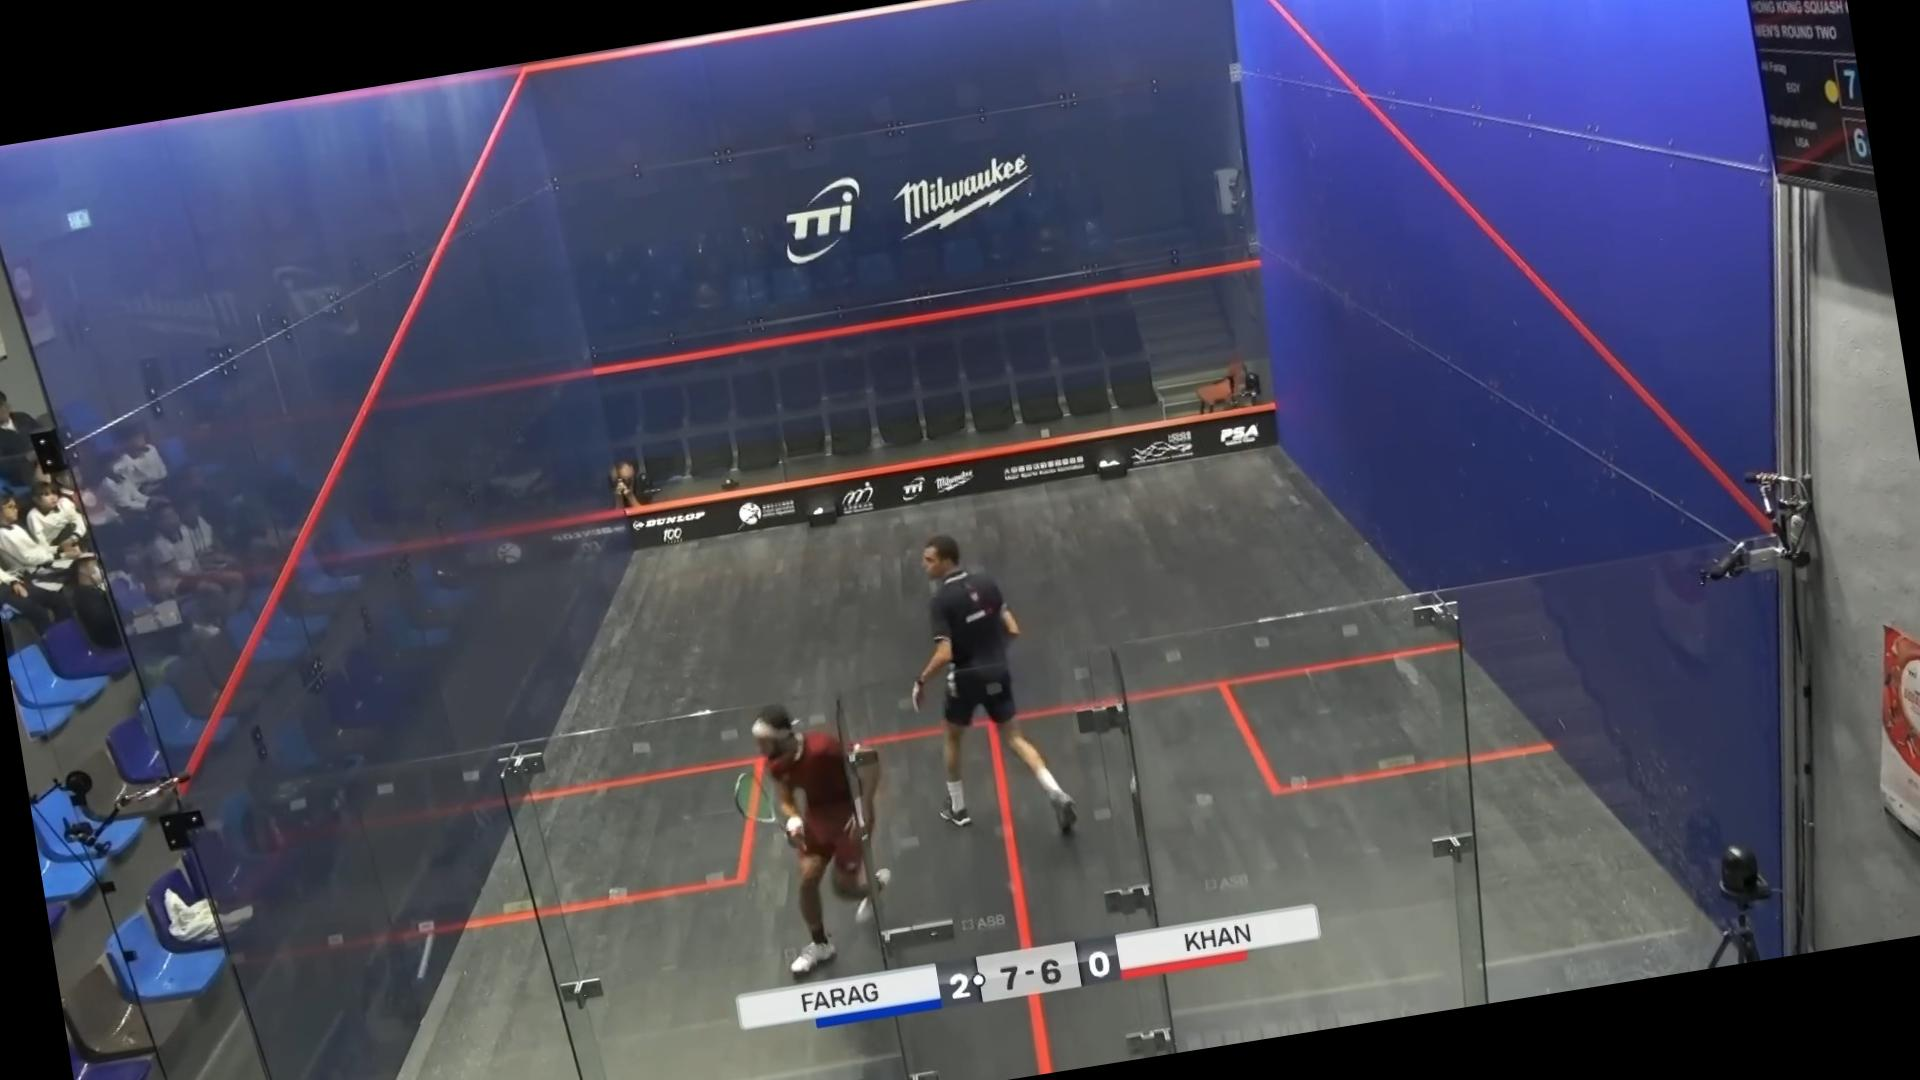Racket: (719, 750, 794, 833)
